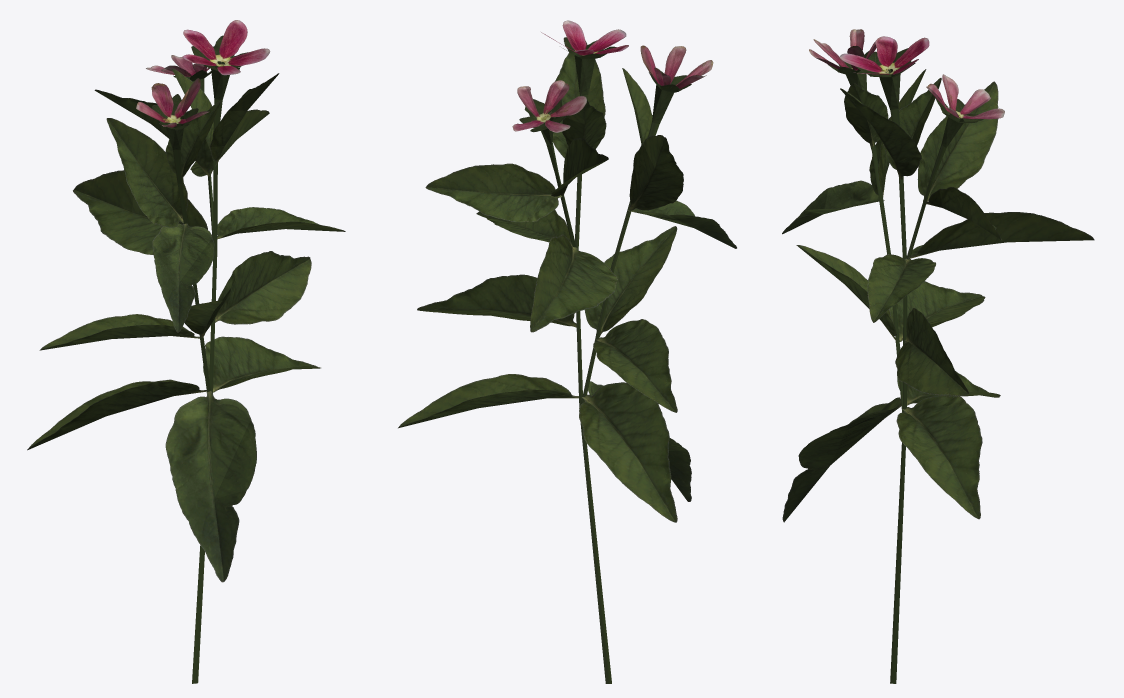
File: s3dplants_mountainflower01red.gltf
The picture shows the model from 3 angles, left to right: view 1: azimuth 30°, elevation 25°; view 2: azimuth 150°, elevation 25°; view 3: azimuth 270°, elevation 25°; orthographic projection.
Parts seen in each view (by area): view 1: flower; view 2: flower; view 3: flower.
Part boxes in pixels (x1=…): flower: x1=27, y1=20, x2=345, y2=683; flower: x1=398, y1=20, x2=736, y2=683; flower: x1=782, y1=29, x2=1094, y2=683.
Bounding box in the file's own units: 0.066 × 0.1339 × 0.0622.
Materials: 1 (1 with a texture image).
